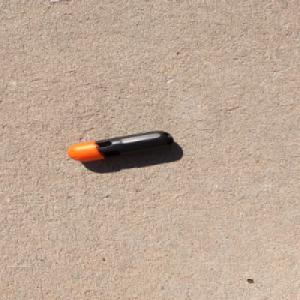PlasticPart: (65, 129, 176, 162)
